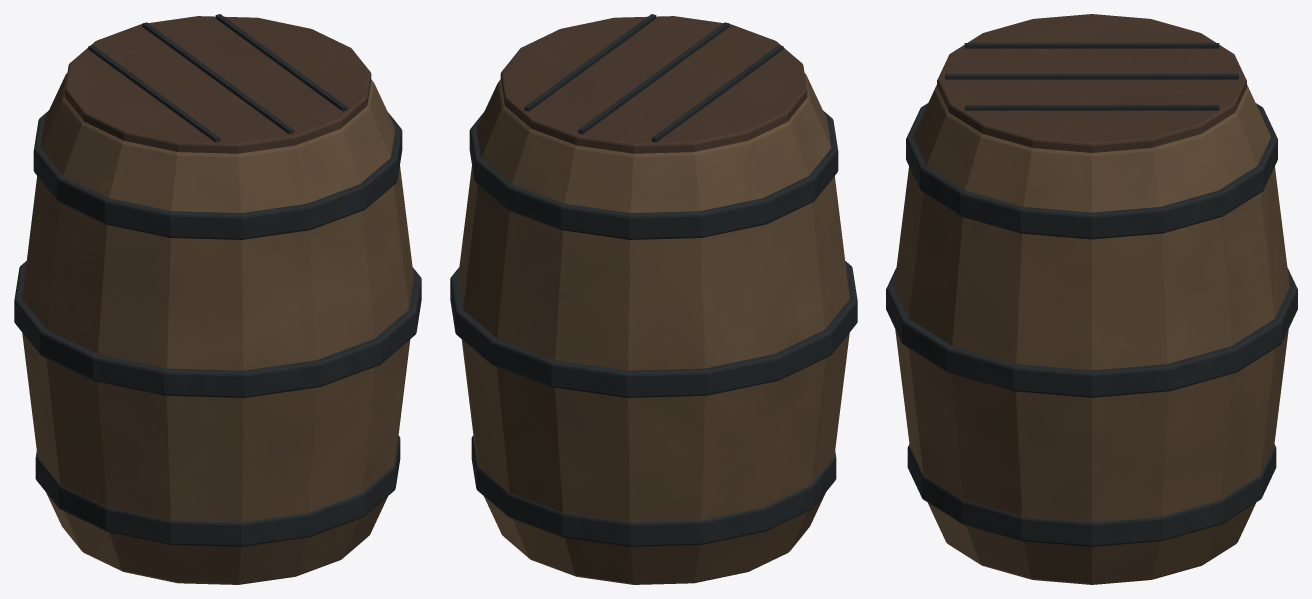
File: Barrel.fbx
3 renders of one model, left to right at view 1: azimuth 30°, elevation 25°; view 2: azimuth 150°, elevation 25°; view 3: azimuth 270°, elevation 25°, orthographic.
Parts seen in each view (by area): view 1: Barrel.001; view 2: Barrel.001; view 3: Barrel.001.
Boxes of the visible parts, bbox=[...] form: Barrel.001: bbox=[14, 14, 421, 584]; Barrel.001: bbox=[450, 14, 857, 584]; Barrel.001: bbox=[886, 14, 1297, 584].
Bounding box in the file's own units: 0.896 × 1.07 × 0.896.
